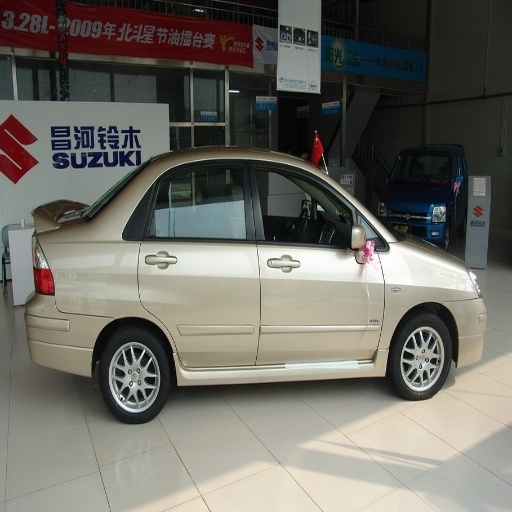back_right_door: (140, 158, 260, 371)
